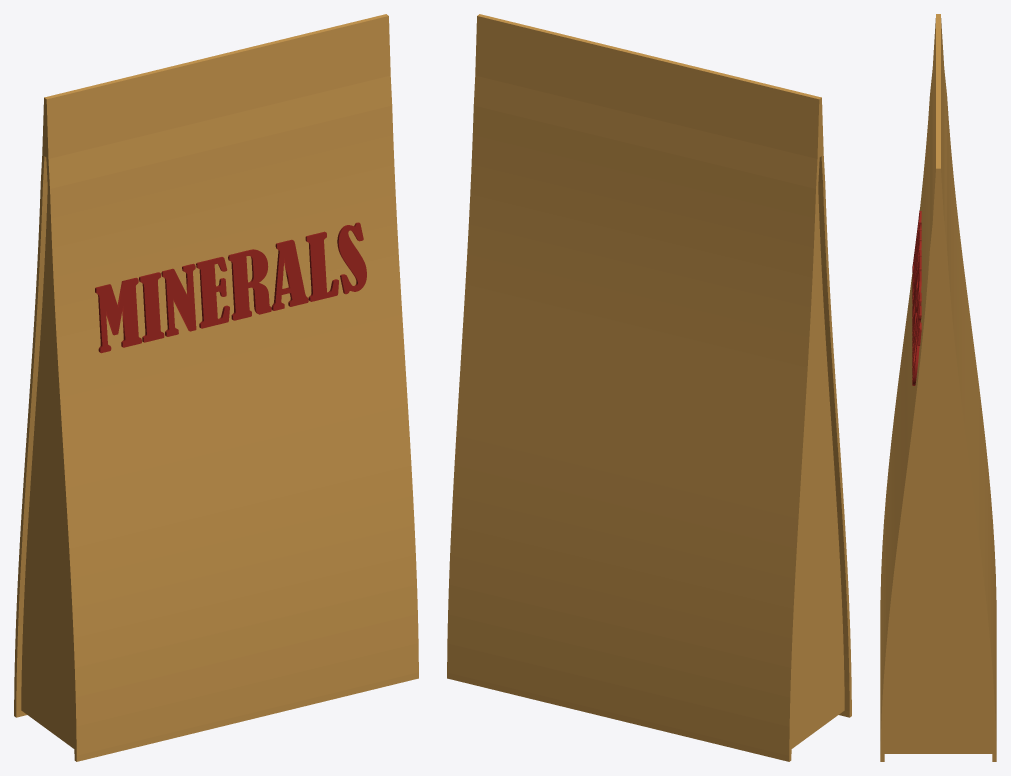
File: Minerals.fbx
The picture shows the model from 3 angles, left to right: view 1: azimuth 30°, elevation 25°; view 2: azimuth 150°, elevation 25°; view 3: azimuth 270°, elevation 25°; orthographic projection. The views are drawn at different scales.
Parts seen in each view (by area): view 1: Plane.004; view 2: Plane.004; view 3: Plane.004.
Boxes of the visible parts, x1,y1,x2,y2 form: Plane.004: (14,14,418,761); Plane.004: (447,14,851,761); Plane.004: (880,14,996,761).
Bounding box in the file's own units: 14.73 × 26.35 × 4.67.
